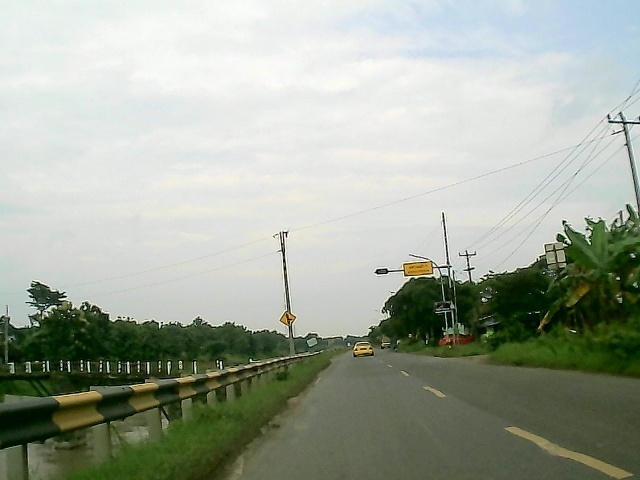Simpang kanan dengan prioritas: (279, 311, 299, 328)
